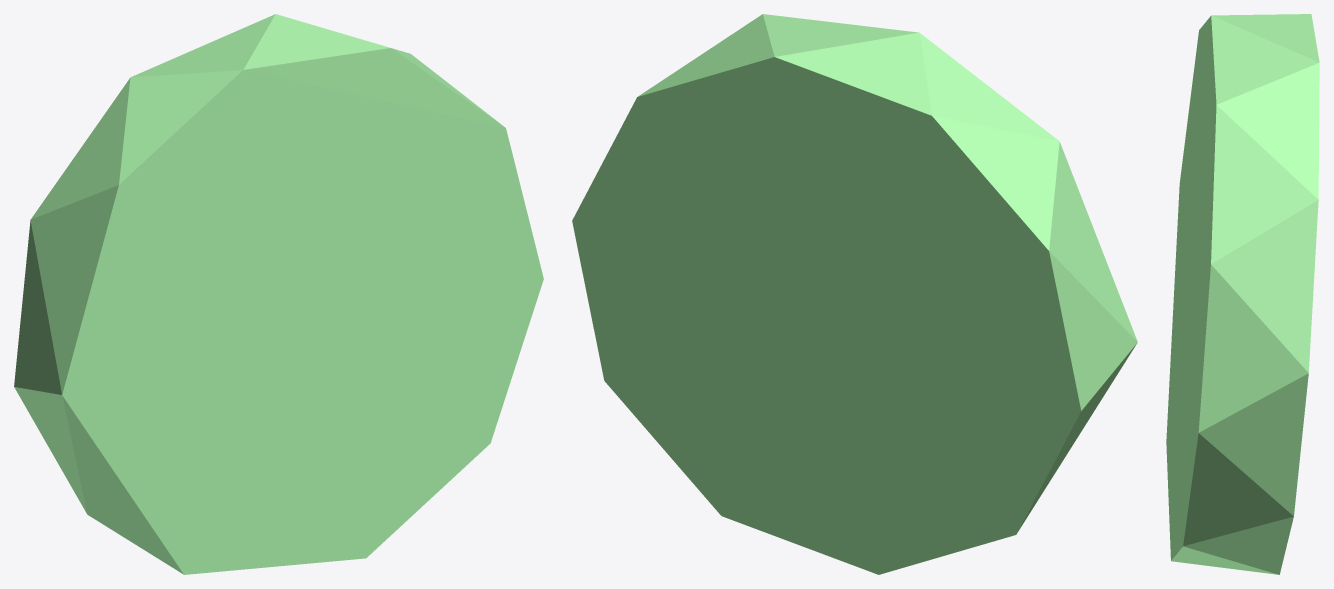
Rendered from linkhou_LR4_R560_link4_respondable_coll_2.dae.
3 views of the same model, side by side, from view 1: azimuth 30°, elevation 25°; view 2: azimuth 150°, elevation 25°; view 3: azimuth 270°, elevation 25° (orthographic). The views are drawn at different scales.
Visible parts, largest first — view 1: Node_00000209DB3AB530; view 2: Node_00000209DB3AB530; view 3: Node_00000209DB3AB530.
Boxes of the visible parts, x1,y1,x2,y2 form: Node_00000209DB3AB530: (14,14,543,574); Node_00000209DB3AB530: (572,14,1137,574); Node_00000209DB3AB530: (1166,14,1319,574).
Size of the model in its own units: 0.0457 by 0.0452 by 0.0124.
